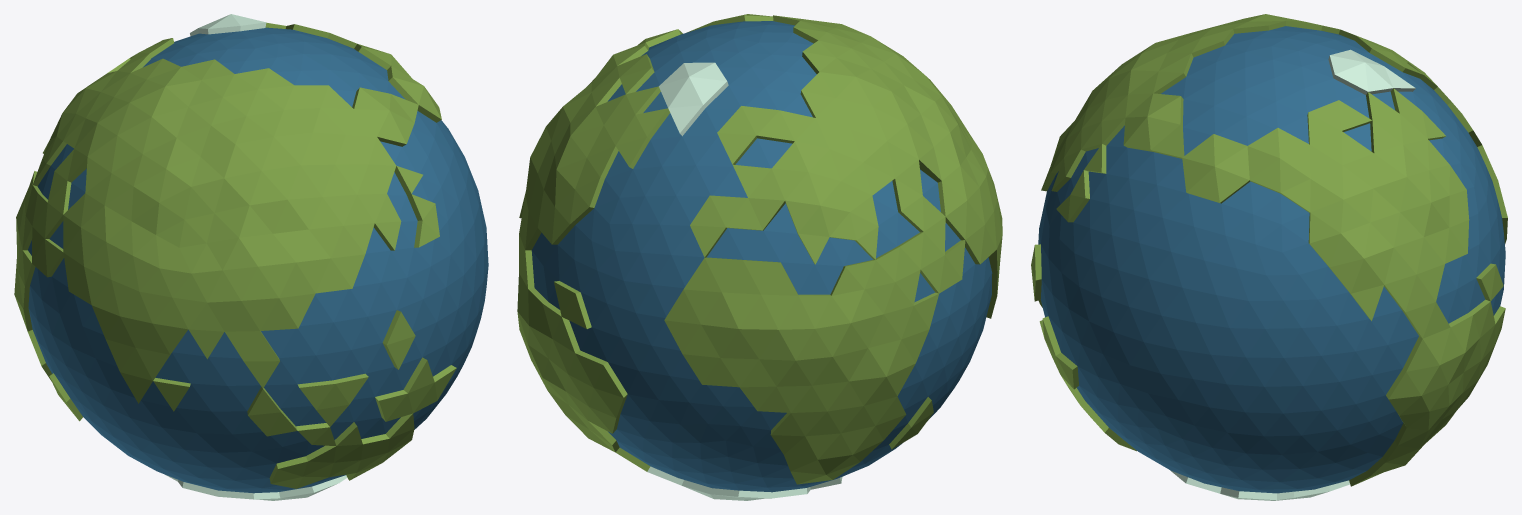
File: lowpoly_earth.glb
3 views of the same model, side by side, from view 1: azimuth 30°, elevation 25°; view 2: azimuth 150°, elevation 25°; view 3: azimuth 270°, elevation 25° (orthographic).
Visible parts, largest first — view 1: URF-Height; view 2: URF-Height; view 3: URF-Height.
Boxes of the visible parts, bbox=[...] form: URF-Height: bbox=[14, 14, 488, 500]; URF-Height: bbox=[517, 14, 1002, 500]; URF-Height: bbox=[1031, 14, 1507, 500].
Size of the model in its own units: 201 by 206 by 203.
